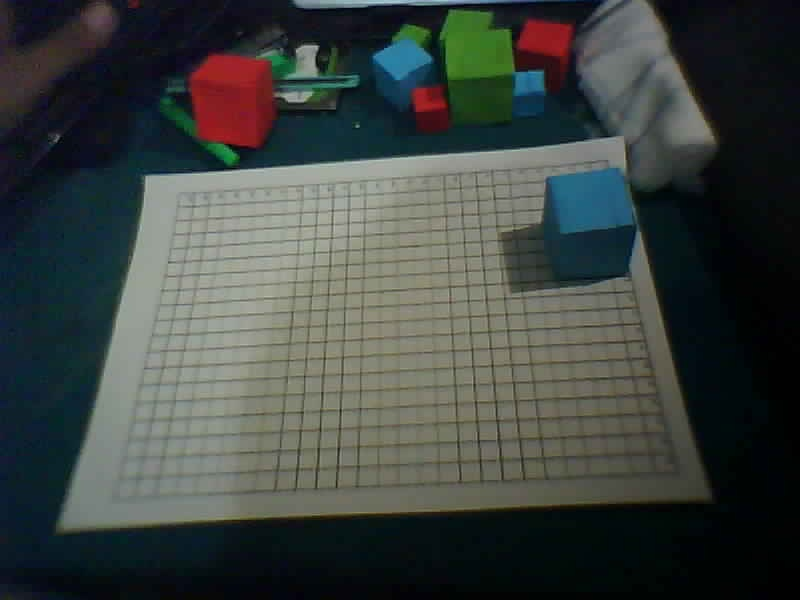blue 4x4x4: (535, 159, 650, 300)
